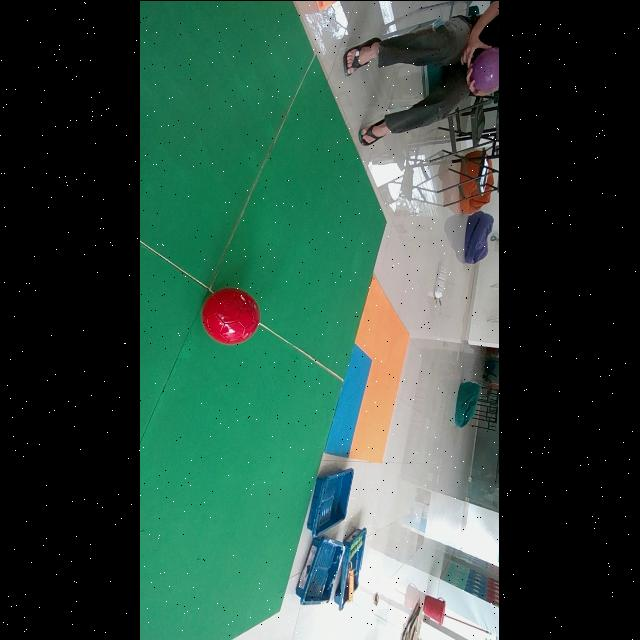P: (471, 46, 500, 90)
R: (203, 287, 261, 342)
